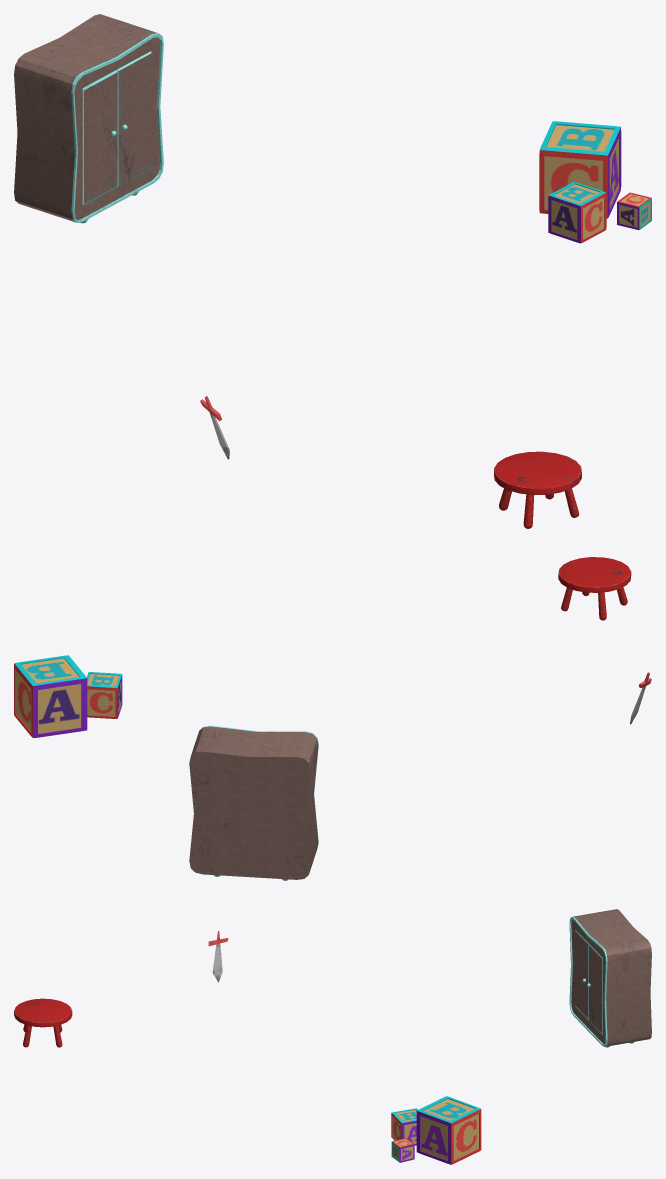
File: Atrezzo.FBX
The picture shows the model from 3 angles, top to bottom: view 1: azimuth 30°, elevation 25°; view 2: azimuth 150°, elevation 25°; view 3: azimuth 270°, elevation 25°; orthographic projection. The views are drawn at different scales.
Parts seen in each view (by area): view 1: closet, Cube02, Table, Cube, Cube03; view 2: closet, Cube02, Table, Cube; view 3: closet, Cube02, Table, Cube, Cube03, sword.
Boxes of the visible parts, <box> form: closet: <box>14,14,163,223</box>; Cube02: <box>539,121,621,218</box>; Table: <box>494,451,581,528</box>; Cube: <box>548,182,606,243</box>; Cube03: <box>617,192,651,229</box>; closet: <box>189,725,318,880</box>; Cube02: <box>14,655,87,738</box>; Table: <box>558,557,631,620</box>; Cube: <box>86,672,122,718</box>; closet: <box>569,909,651,1047</box>; Cube02: <box>416,1096,481,1164</box>; Table: <box>14,998,72,1047</box>; Cube: <box>391,1108,417,1145</box>; Cube03: <box>391,1138,414,1162</box>; sword: <box>208,931,228,982</box>.
Bounding box in the file's own units: 8.5 × 2.18 × 12.02.
